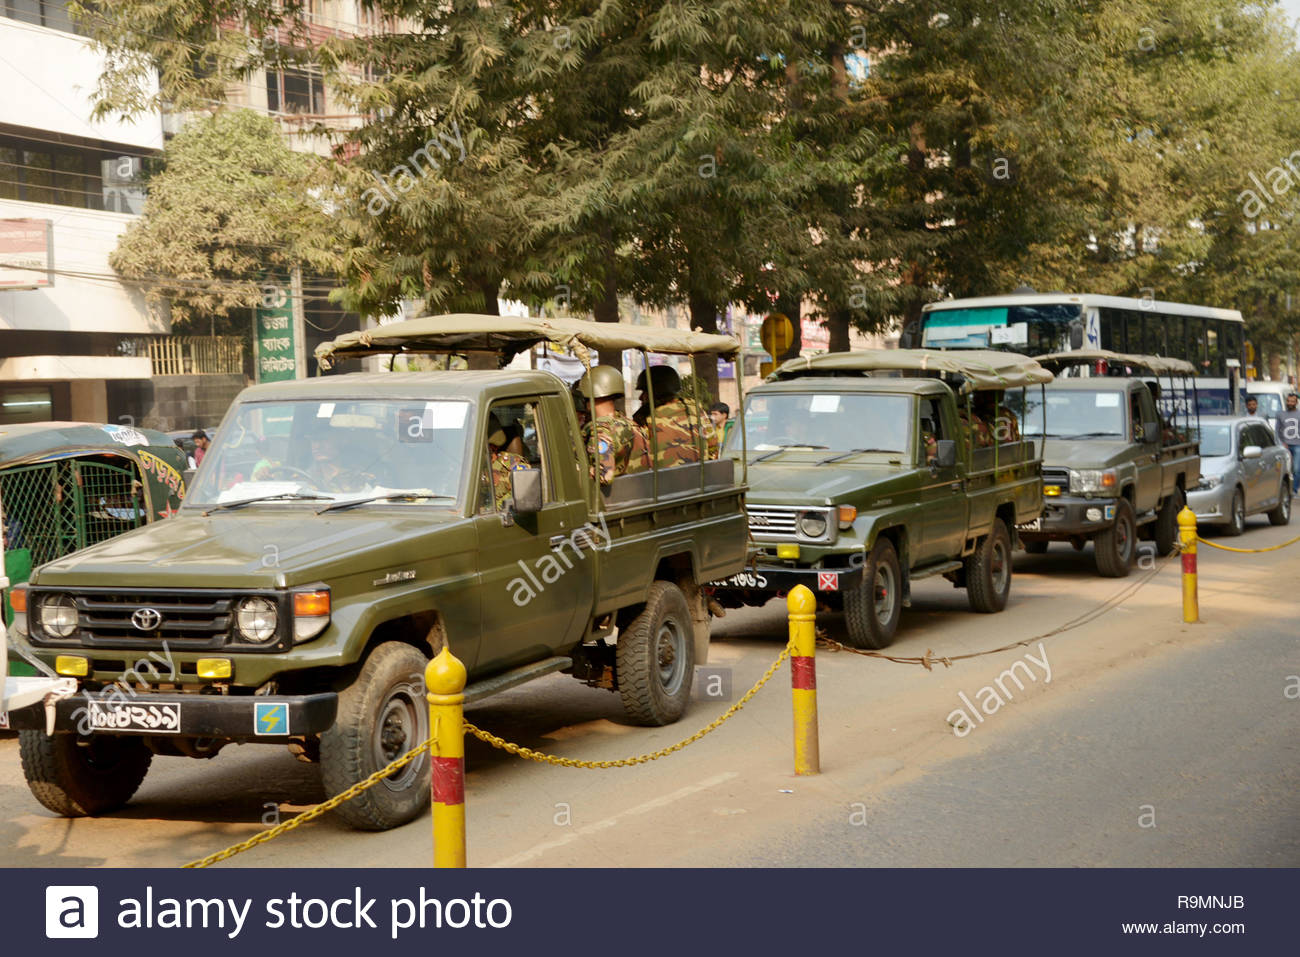army vehicle: (24, 313, 746, 831), (721, 352, 1046, 648), (1008, 354, 1197, 576)
bus: (917, 294, 1247, 389)
car: (1170, 416, 1293, 534)
three wheelers (CNG): (2, 425, 191, 584)
